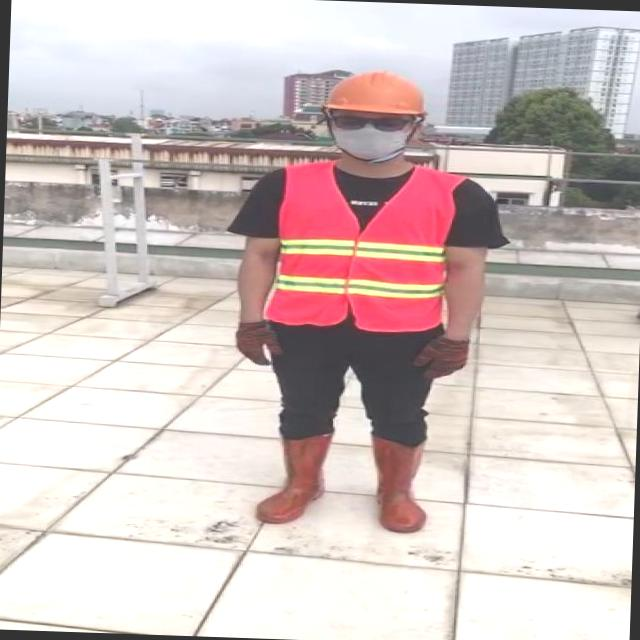boots: (256, 433, 330, 523), (372, 436, 426, 531)
gloves: (412, 334, 468, 379), (236, 319, 281, 364)
vest: (267, 161, 465, 330)
